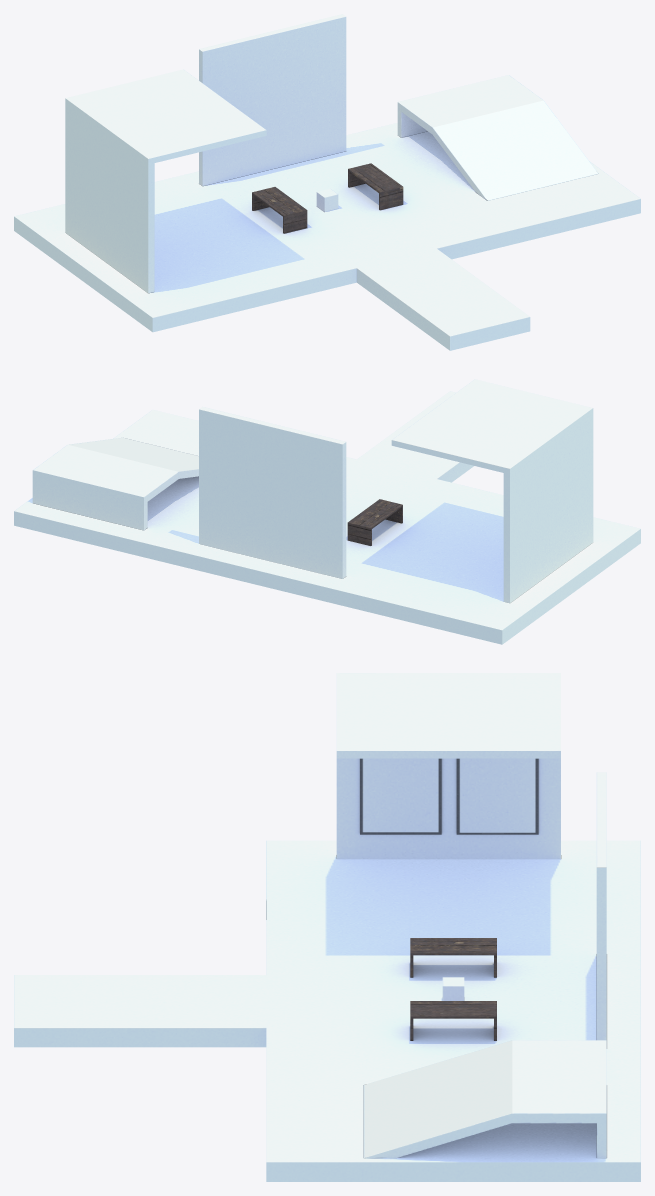
Rendered from test_ground.glb.
3 views of the same model, one above another, from view 1: azimuth 30°, elevation 25°; view 2: azimuth 150°, elevation 25°; view 3: azimuth 270°, elevation 25° (orthographic). The views are drawn at different scales.
Visible parts, largest first — view 1: Cube; view 2: Cube; view 3: Cube.
Boxes of the visible parts, x1,y1,x2,y2 form: Cube: (14, 14, 640, 350); Cube: (14, 379, 640, 644); Cube: (14, 673, 640, 1181).
Size of the model in its own units: 21.45 by 6.25 by 17.66.
5 materials, 5 textured.
